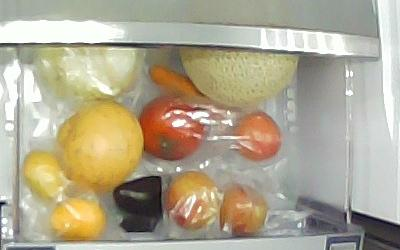cabbage: (33, 46, 144, 99)
carrot: (149, 65, 240, 122)
eggplant: (113, 175, 162, 220)
melon: (177, 45, 299, 107)
pear: (52, 98, 144, 191)
prune_vinyl: (163, 169, 220, 230), (219, 181, 267, 236), (231, 109, 281, 161)
tangerine_vinyl: (50, 197, 107, 240), (19, 149, 62, 204)
tomato_vinyl: (138, 92, 205, 161)
